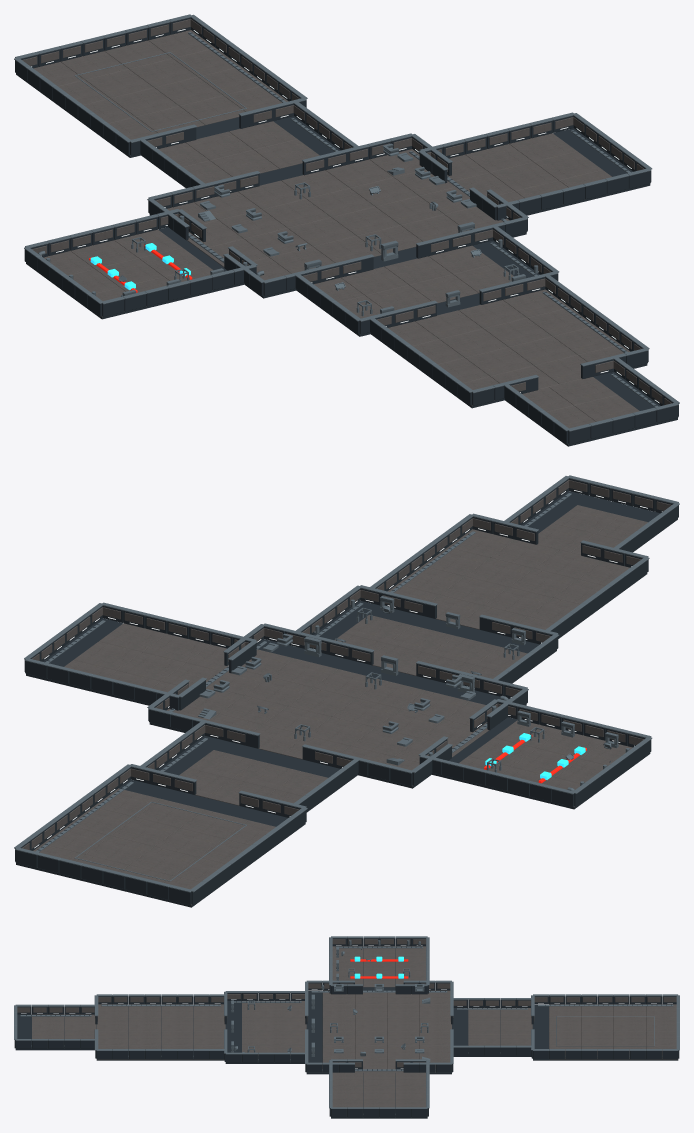
Rendered from boarding_deck.glb.
The picture shows the model from 3 angles, top to bottom: view 1: azimuth 30°, elevation 25°; view 2: azimuth 150°, elevation 25°; view 3: azimuth 270°, elevation 25°; orthographic projection. The views are drawn at different scales.
Parts seen in each view (by area): view 1: rescue_architecture_1, hangar_architecture_1, core_architecture_1, command_architecture_1, cache_architecture_1, engineering_architecture_1, security_architecture_1, rescue_architecture_2, cache_architecture_0, hangar_architecture_0, engineering_architecture_0, rescue_architecture_0 (+12 smaller); view 2: rescue_architecture_1, core_architecture_1, hangar_architecture_1, cache_architecture_1, hangar_architecture_0, command_architecture_1, engineering_architecture_1, rescue_architecture_0, rescue_architecture_2, security_architecture_1, cache_architecture_0, engineering_architecture_0 (+12 smaller); view 3: rescue_architecture_1, hangar_architecture_1, core_architecture_1, engineering_architecture_1, cache_architecture_1, command_architecture_1, hangar_architecture_0, security_architecture_1, rescue_architecture_0, rescue_architecture_2, core_architecture_0, bridge_architecture_1 (+12 smaller).
Part boxes in pixels (x1,y1,x2,y2): rescue_architecture_1: [155, 138, 520, 280]; hangar_architecture_1: [22, 19, 299, 139]; core_architecture_1: [377, 278, 641, 405]; command_architecture_1: [302, 229, 550, 318]; cache_architecture_1: [427, 117, 643, 204]; engineering_architecture_1: [32, 213, 249, 317]; security_architecture_1: [147, 105, 351, 183]; rescue_architecture_2: [147, 133, 528, 283]; cache_architecture_0: [419, 115, 651, 220]; hangar_architecture_0: [15, 17, 306, 157]; engineering_architecture_0: [24, 212, 256, 319]; rescue_architecture_0: [148, 136, 527, 298]; rescue_architecture_1: [155, 628, 520, 786]; core_architecture_1: [376, 518, 641, 629]; hangar_architecture_1: [22, 768, 299, 905]; cache_architecture_1: [32, 607, 248, 694]; hangar_architecture_0: [15, 767, 306, 907]; command_architecture_1: [302, 590, 550, 678]; engineering_architecture_1: [426, 703, 643, 807]; rescue_architecture_0: [148, 626, 527, 788]; rescue_architecture_2: [147, 623, 528, 773]; security_architecture_1: [147, 725, 351, 805]; cache_architecture_0: [24, 606, 256, 710]; engineering_architecture_0: [419, 702, 651, 809]; rescue_architecture_1: [307, 983, 451, 1072]; hangar_architecture_1: [534, 997, 677, 1059]; core_architecture_1: [96, 997, 225, 1059]; engineering_architecture_1: [332, 939, 425, 987]; cache_architecture_1: [332, 1062, 425, 1107]; command_architecture_1: [227, 994, 306, 1055]; hangar_architecture_0: [531, 996, 679, 1060]; security_architecture_1: [453, 1000, 532, 1045]; rescue_architecture_0: [305, 982, 453, 1074]; rescue_architecture_2: [305, 980, 453, 1070]; core_architecture_0: [95, 996, 226, 1060]; bridge_architecture_1: [17, 1007, 96, 1038].
Bounding box in the file's own units: 50.42 × 2.93 × 82.42.
6 materials, 1 textured.
